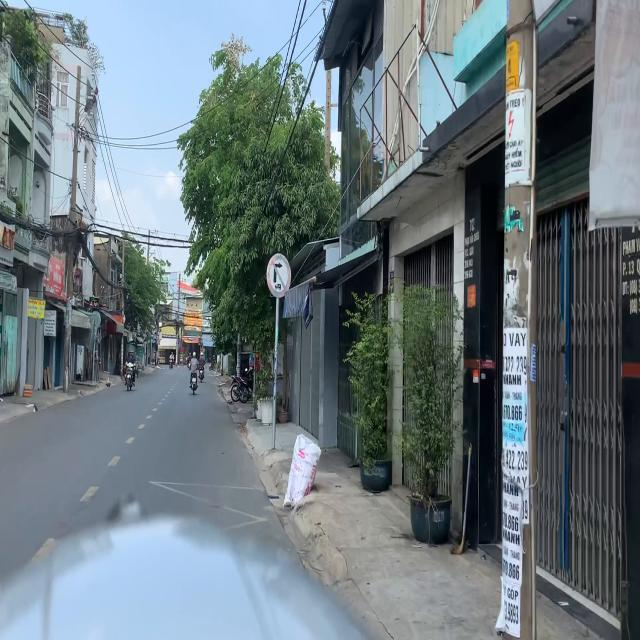Cam re phai: (266, 251, 291, 299)
